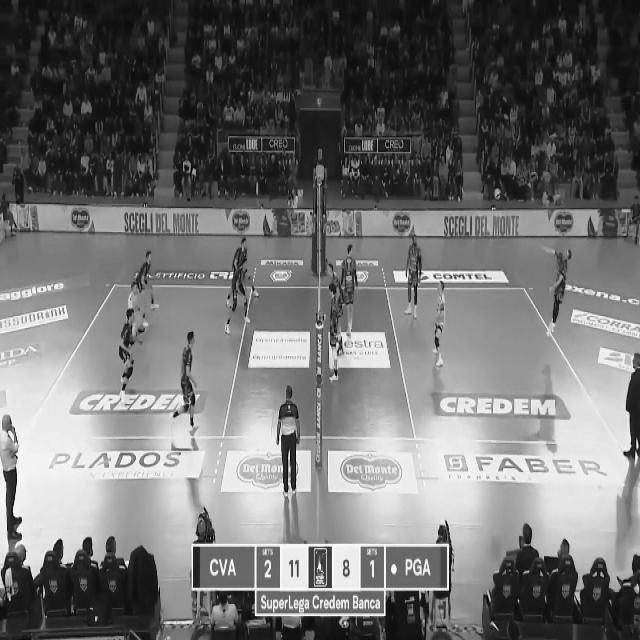volleyball court: (29, 280, 623, 456)
